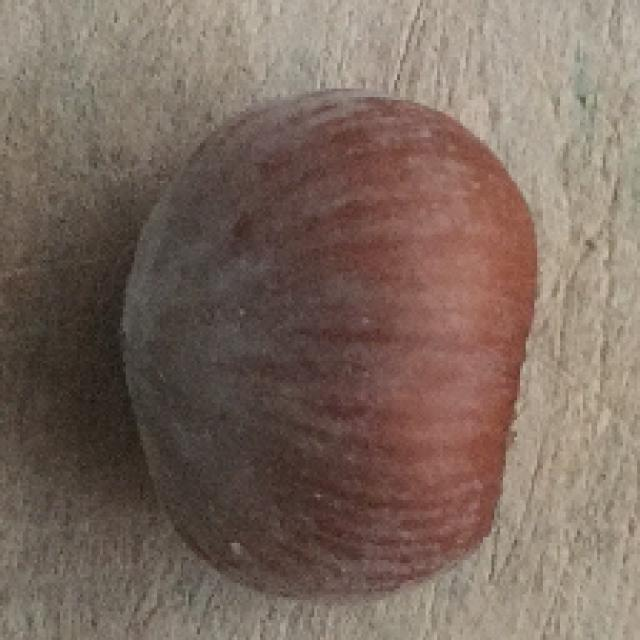qualityHazelnut: (122, 88, 537, 592)
